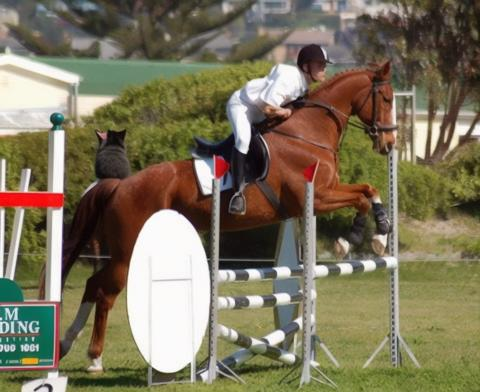cat: (94, 130, 129, 177)
horse: (43, 56, 407, 374)
person: (221, 44, 331, 218)
